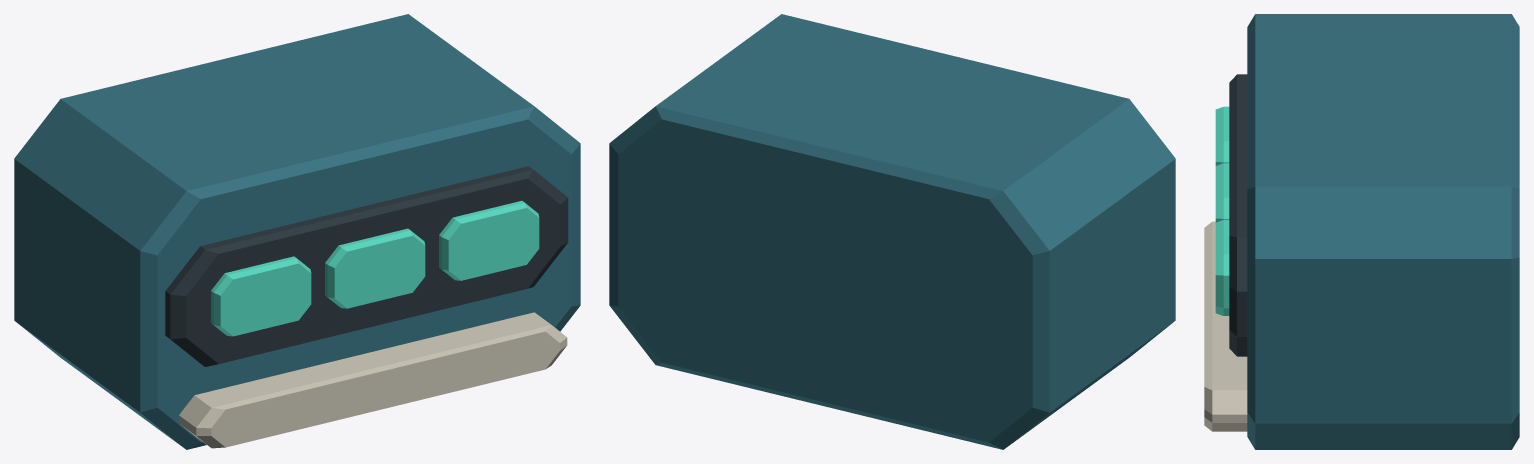
The model's file is boss_bridge.glb.
The picture shows the model from 3 angles, left to right: view 1: azimuth 30°, elevation 25°; view 2: azimuth 150°, elevation 25°; view 3: azimuth 270°, elevation 25°; orthographic projection.
Visible parts, largest first — view 1: boss_bridge; view 2: boss_bridge; view 3: boss_bridge.
Boxes of the visible parts, x1=… form: boss_bridge: x1=14, y1=14, x2=580, y2=449; boss_bridge: x1=609, y1=14, x2=1175, y2=449; boss_bridge: x1=1204, y1=14, x2=1519, y2=449.
Bounding box in the file's own units: 2.28 × 1.28 × 1.39.
